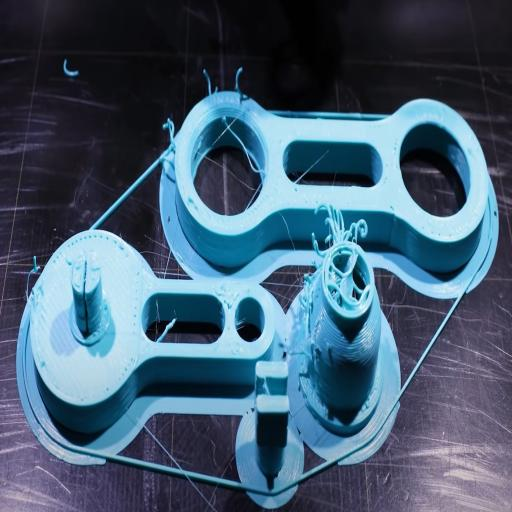stringing: (308, 198, 364, 265), (20, 250, 44, 337), (292, 266, 316, 322), (199, 58, 220, 114), (232, 56, 247, 110), (159, 112, 176, 158)
